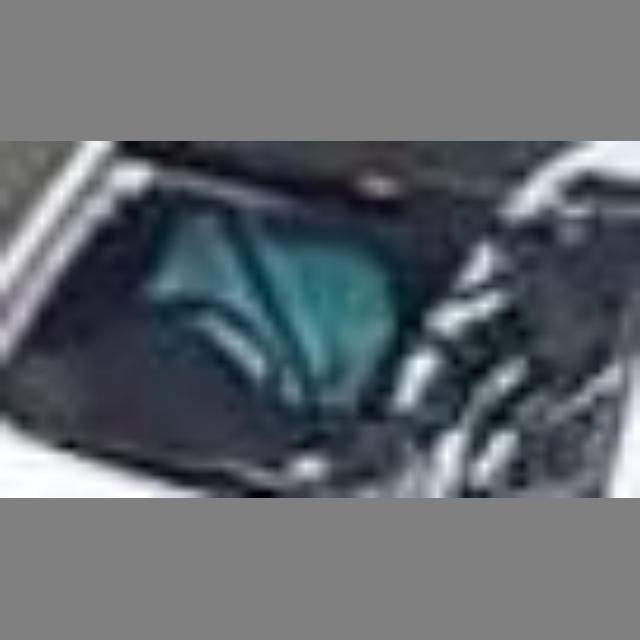pakai: (169, 207, 386, 433)
